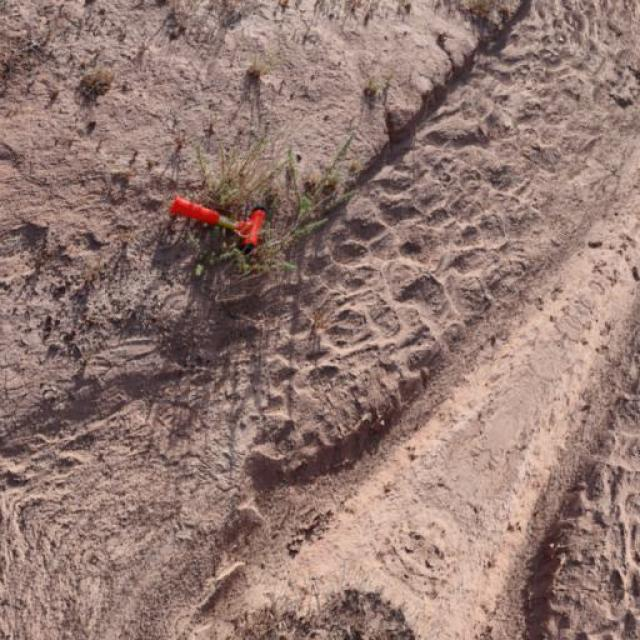mallet: (166, 194, 266, 254)
